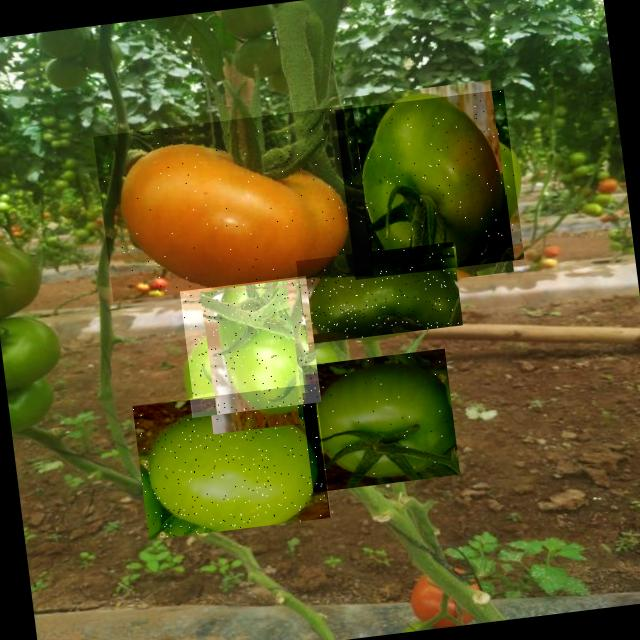Ripe Tomato: (93, 105, 372, 302)
Unripe Tomato: (334, 89, 524, 279), (132, 382, 334, 540), (302, 348, 459, 492), (179, 275, 321, 417), (296, 241, 462, 344)
